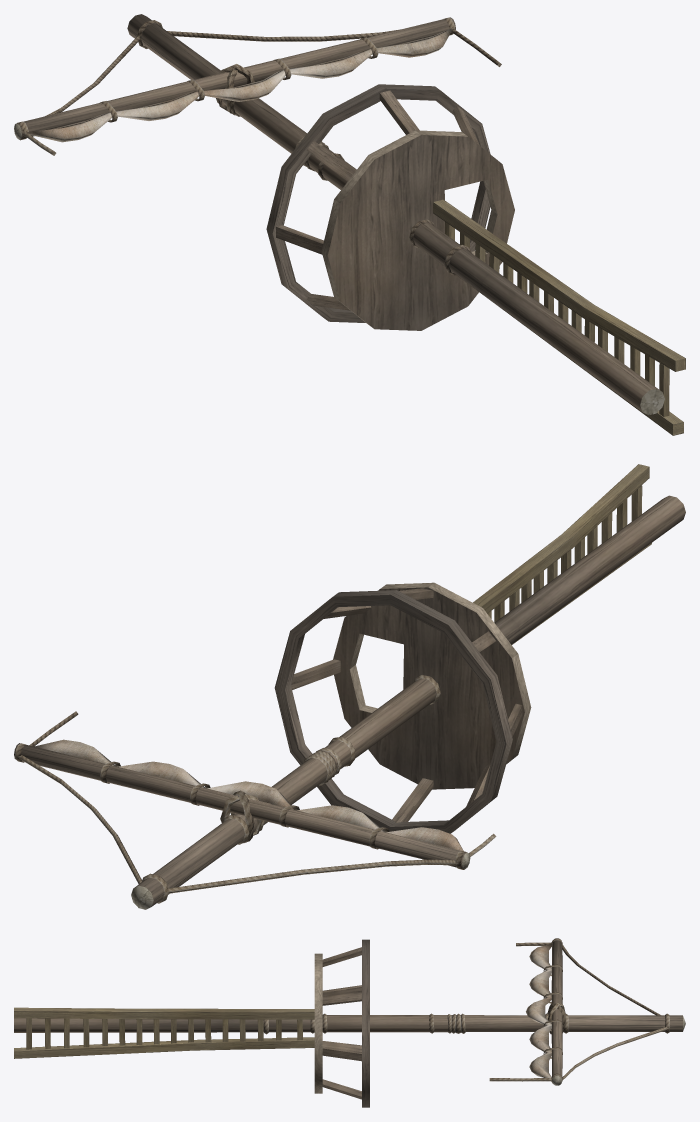
Rendered from Boat_Mast_Ladder_A.fbx.
3 views of the same model, one above another, from view 1: azimuth 30°, elevation 25°; view 2: azimuth 150°, elevation 25°; view 3: azimuth 270°, elevation 25° (orthographic). The views are drawn at different scales.
Visible parts, largest first — view 1: Boat_Mast_Ladder_A; view 2: Boat_Mast_Ladder_A; view 3: Boat_Mast_Ladder_A.
Part boxes in pixels (box(x1,y1,x2,y2)): Boat_Mast_Ladder_A: box(14, 14, 685, 435); Boat_Mast_Ladder_A: box(14, 464, 685, 909); Boat_Mast_Ladder_A: box(14, 938, 685, 1107).
Bounding box in the file's own units: 10.73 × 5.48 × 21.84.
